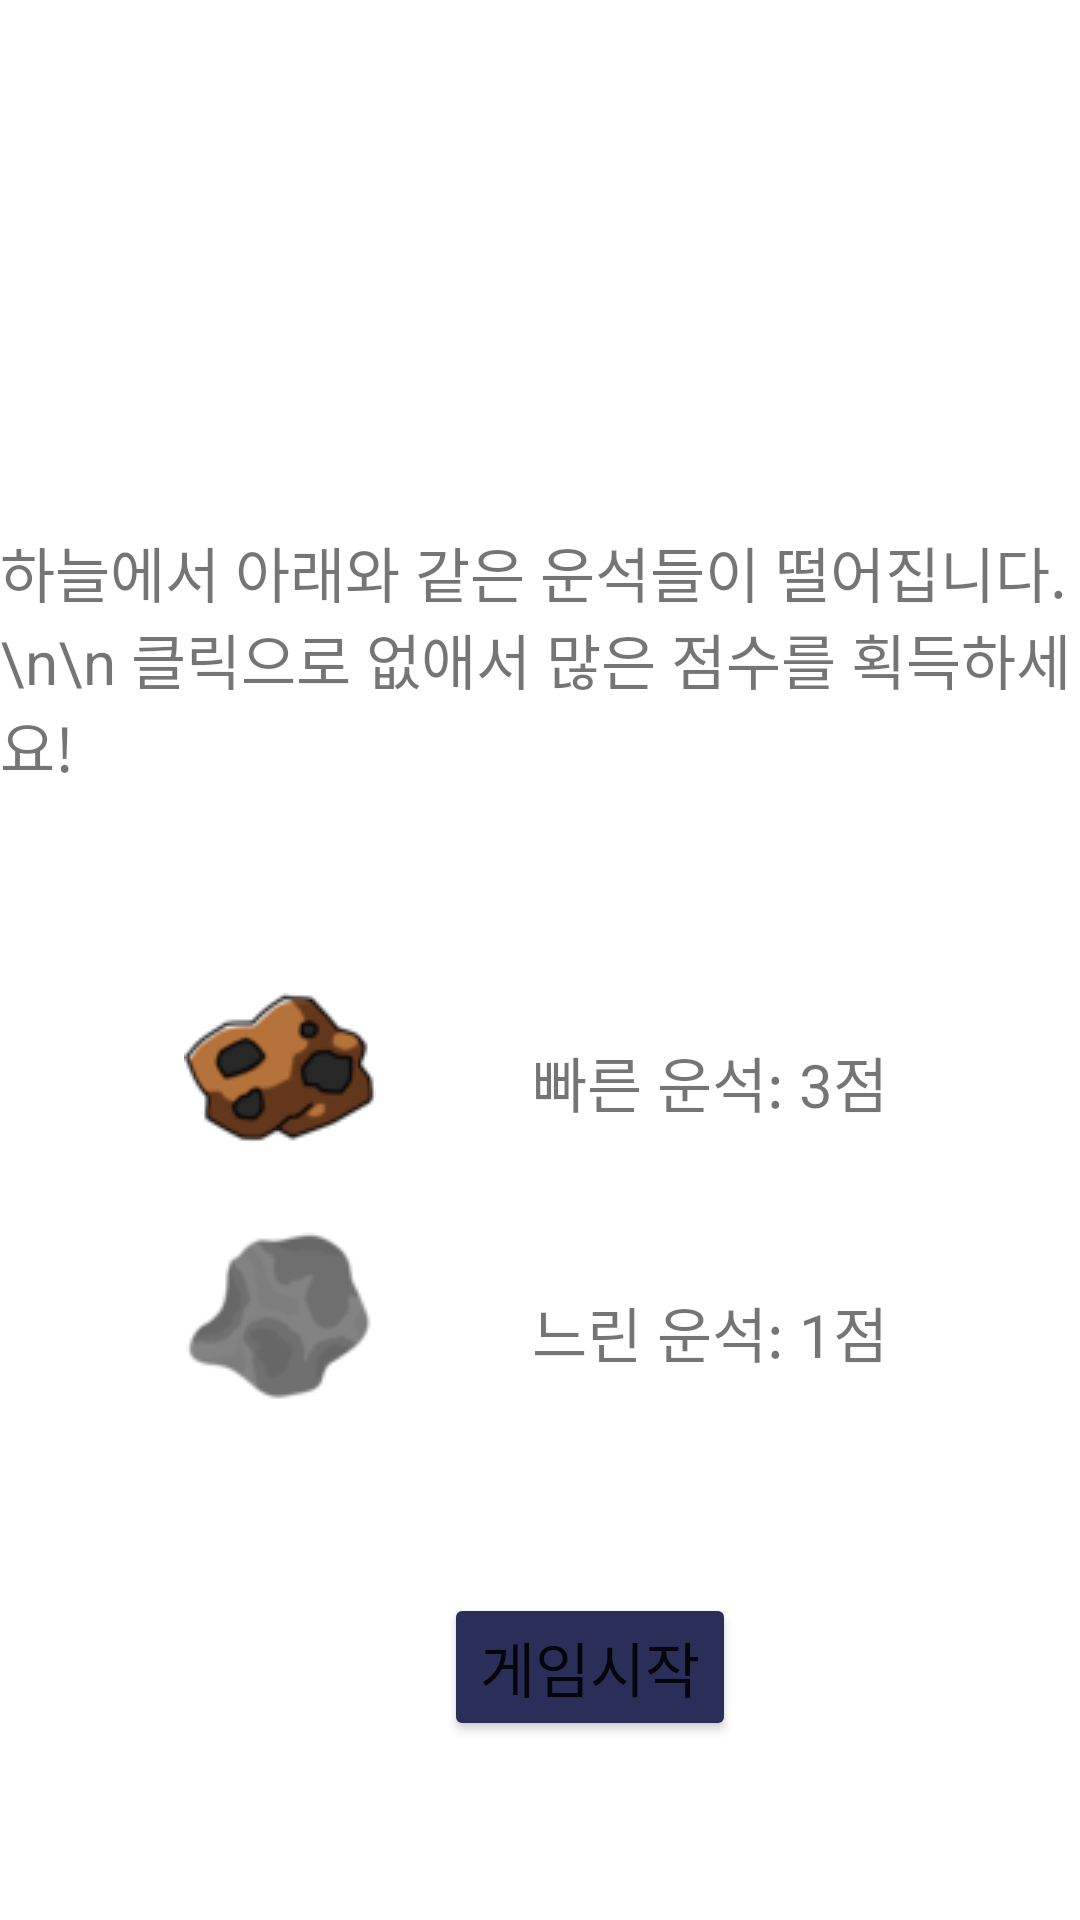

Point at icon controls on the screen. Image size 1080*1920, points as (x=x, y=y).
asteroid: (x=279, y=1067), (x=279, y=1316)
